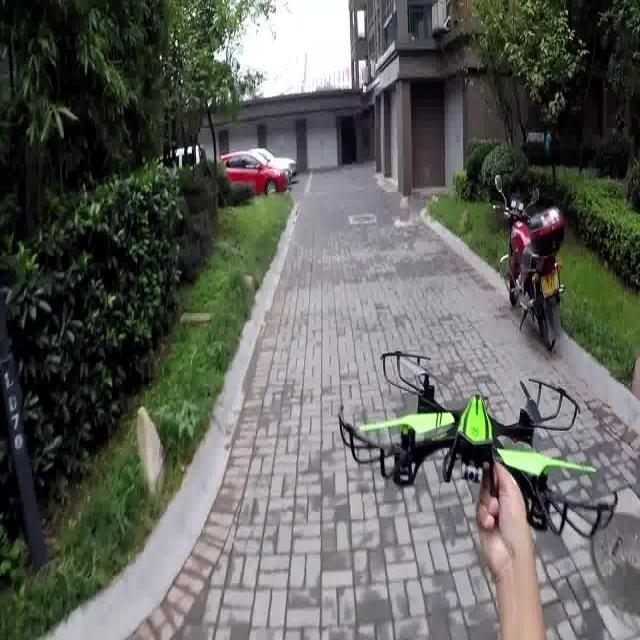drone: (336, 350, 620, 542)
